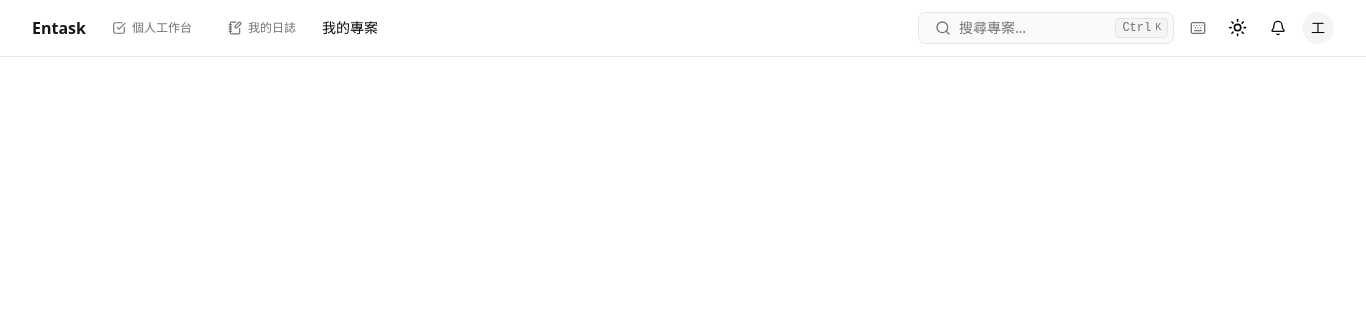
AppLayout 團隊管理導覽保護 › 一般工程師（無 team.read）在專案頁時，麵包屑不出現團隊連結且頭像選單不含選擇團隊
Expected: the text "我的專案" is shown, [322,18,378,38]
// 點擊頭像打開下拉選單 (Radix PointerDown)
Press the mouse on the button named "使用者選單" at (1318, 28), box [1302,12,1334,44]
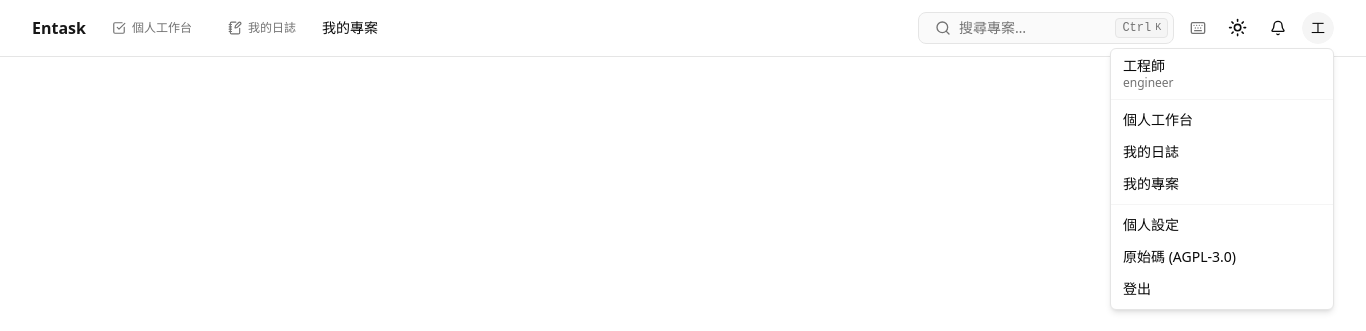
Now the menu item "我的專案" is shown, box [1123,174,1179,193]
